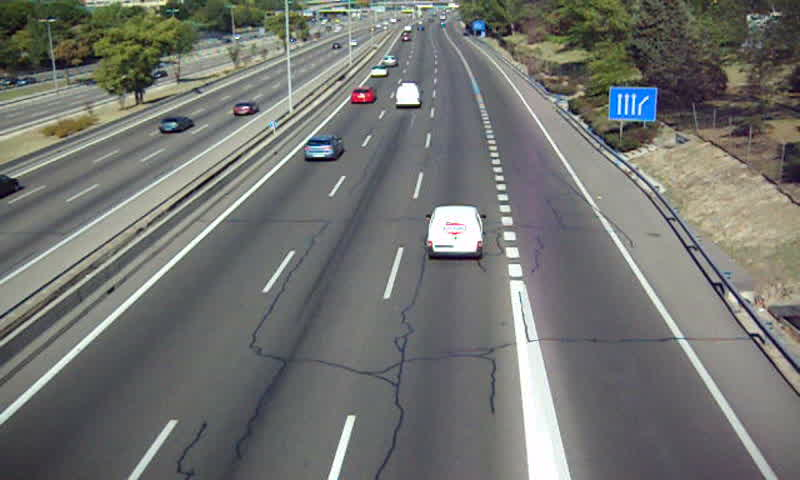car: (304, 134, 343, 160), (350, 87, 373, 104), (370, 65, 388, 78), (383, 54, 395, 66)
van: (427, 205, 484, 258), (395, 82, 421, 109)
